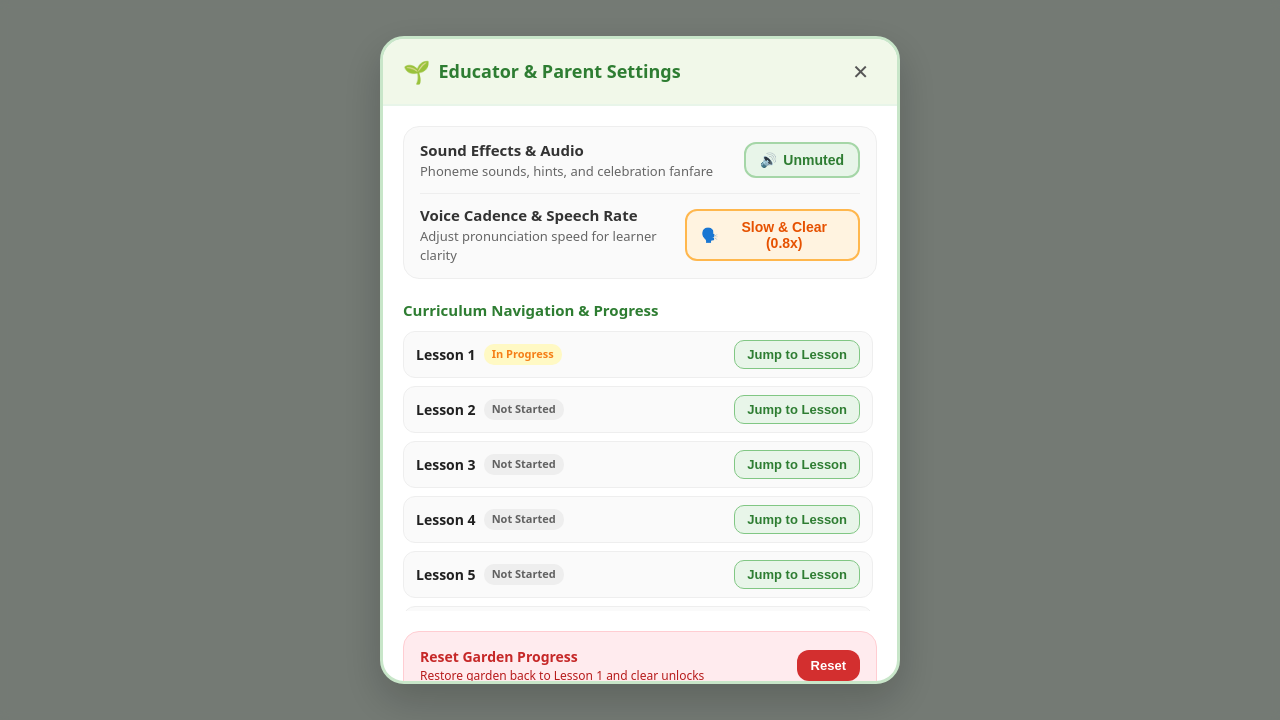
Test case: Seam 2 — UI Component & Gesture Integration Seam › Educator Modal Controls (Issue #7) › toggles voice cadence setting (Normal 1.0x vs Slow & Clear 0.8x) via voice-cadence-toggle button
# Toggle to Normal (1.0x)
Click the button with test id "voice-cadence-toggle" at (772, 235), box [685,209,860,261]
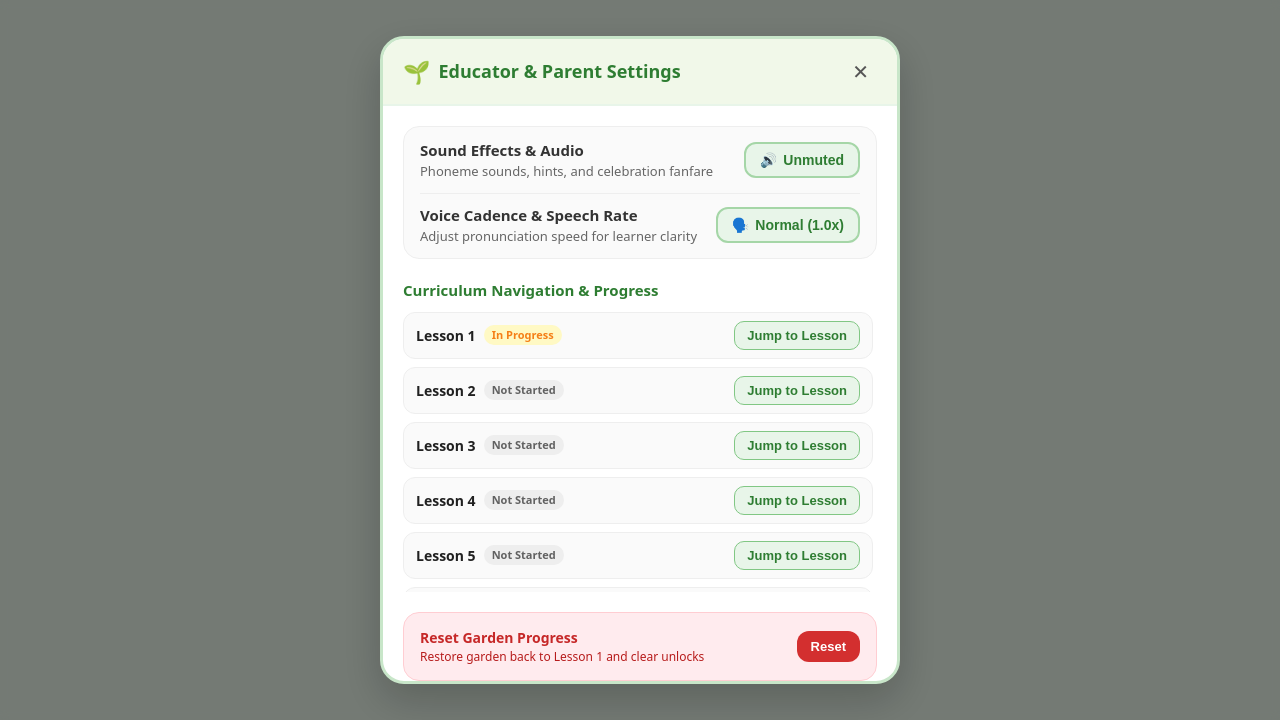
Now the button with test id "voice-cadence-toggle" shows "Normal"
# Toggle back to Slow & Clear (0.8x)
Click the button with test id "voice-cadence-toggle" at (788, 225), box [716,207,860,243]
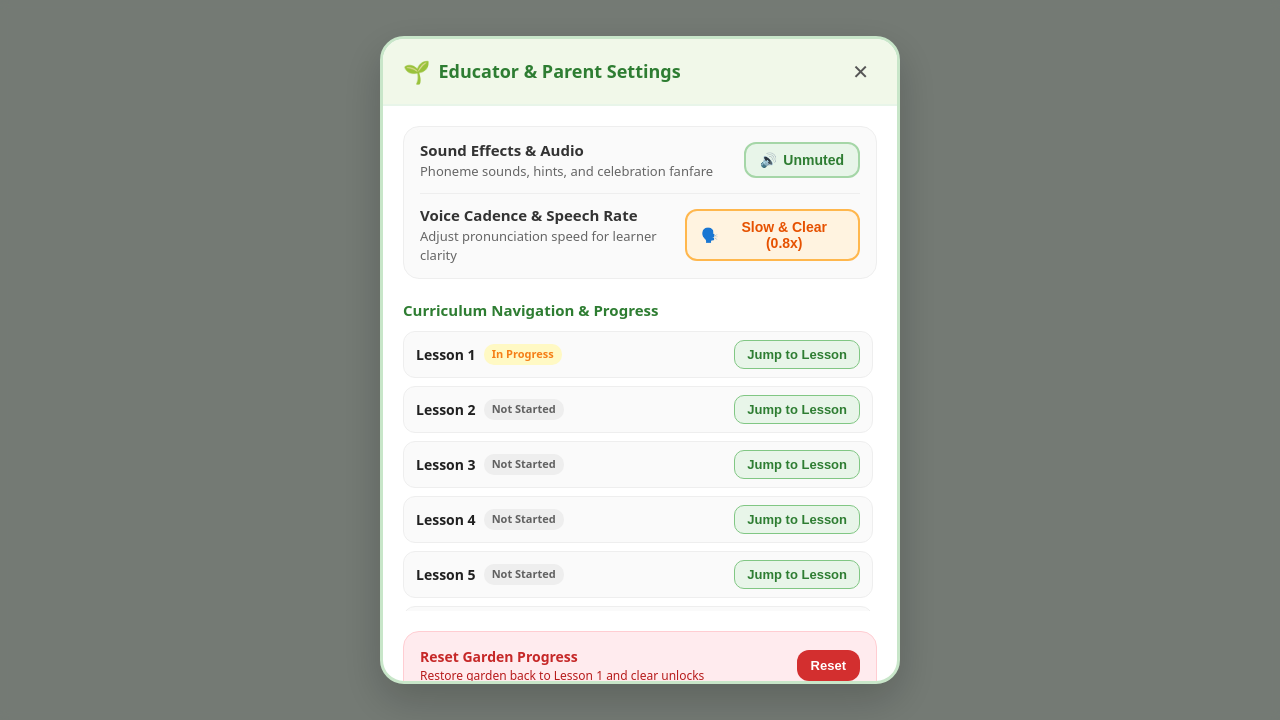
Now the button with test id "voice-cadence-toggle" shows "Slow & Clear", box [685,209,860,261]
